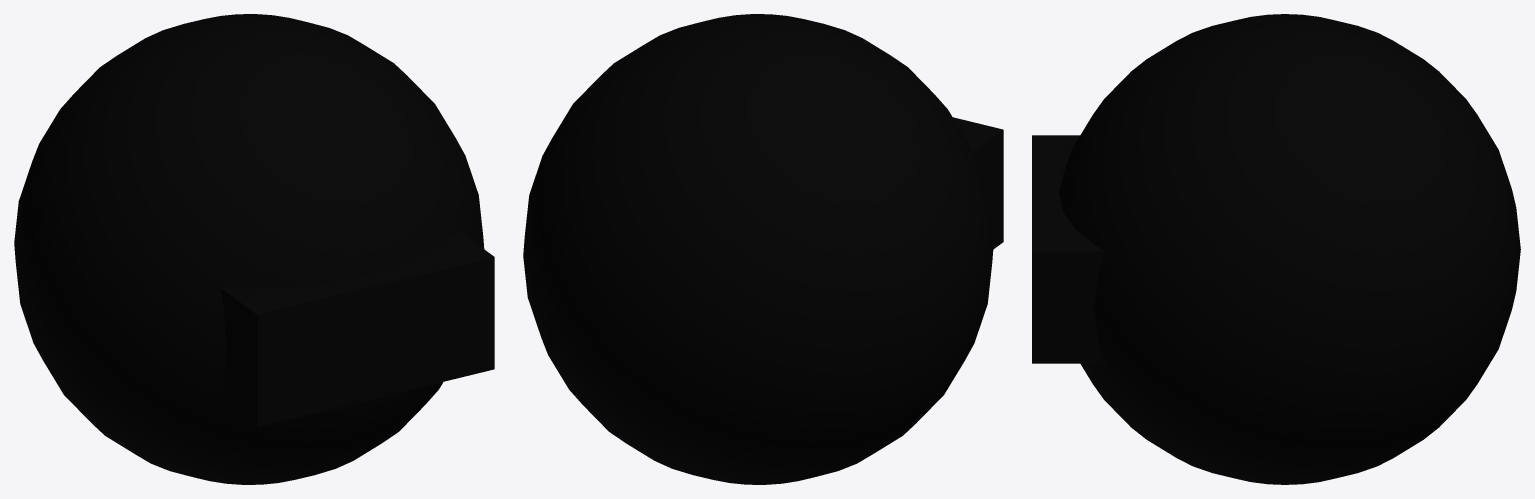
File: wear_none.obj
3 renders of one model, left to right at view 1: azimuth 30°, elevation 25°; view 2: azimuth 150°, elevation 25°; view 3: azimuth 270°, elevation 25°, orthographic.
Parts seen in each view (by area): view 1: wear_none; view 2: wear_none; view 3: wear_none.
Boxes of the visible parts, x1=… form: wear_none: x1=14, y1=14, x2=494, y2=484; wear_none: x1=523, y1=14, x2=1003, y2=484; wear_none: x1=1032, y1=14, x2=1520, y2=484.
Bounding box in the file's own units: 2 × 2 × 2.07.
Materials: 1 (1 with a texture image).
